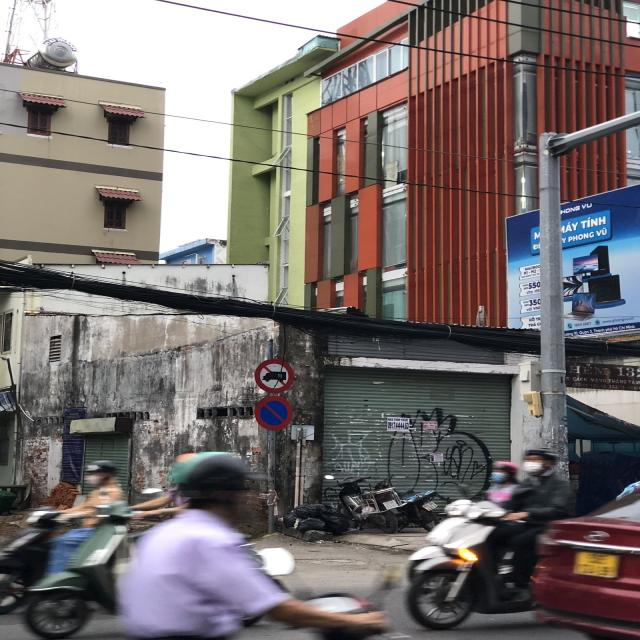Bien bao cam do xe: (252, 395, 294, 433)
Bien bao cam xe oto tai: (252, 356, 298, 396)
